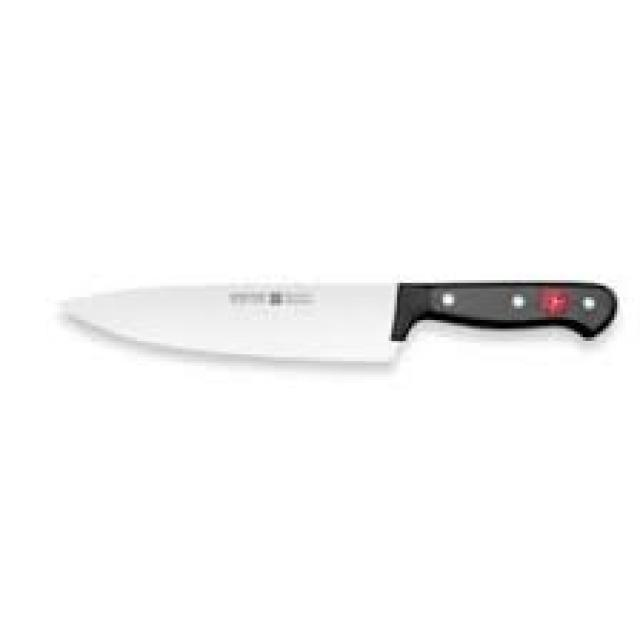knife: (47, 277, 621, 380)
